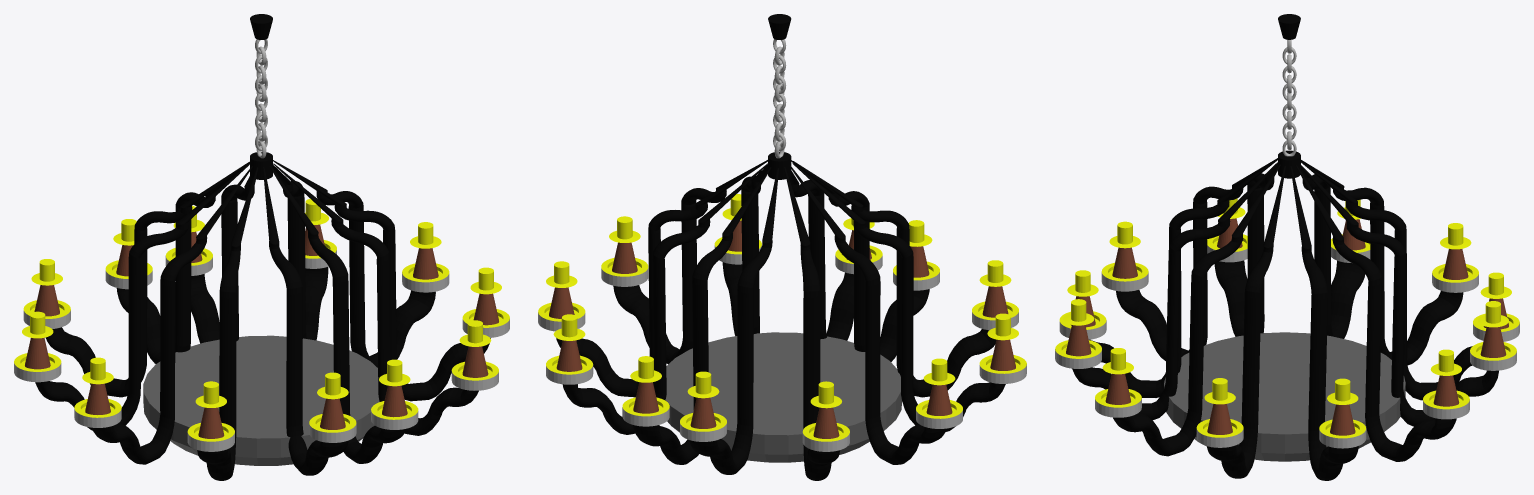
The model's file is chandelier.fbx.
3 renders of one model, left to right at view 1: azimuth 30°, elevation 25°; view 2: azimuth 150°, elevation 25°; view 3: azimuth 270°, elevation 25°, orthographic.
Parts seen in each view (by area): view 1: Cylinder, Cylinder.003, Cylinder.014, Torus, Cylinder.015; view 2: Cylinder, Cylinder.003, Cylinder.014, Torus, Cylinder.015; view 3: Cylinder, Cylinder.003, Cylinder.014, Torus, Cylinder.015.
Part boxes in pixels (x1,y1,x2,y2): Cylinder: (35, 160, 490, 480); Cylinder.003: (14, 198, 509, 451); Cylinder.014: (143, 335, 379, 465); Torus: (255, 39, 267, 158); Cylinder.015: (250, 151, 272, 179); Cylinder: (556, 160, 1005, 480); Cylinder.003: (538, 194, 1026, 451); Cylinder.014: (665, 332, 902, 462); Torus: (773, 39, 786, 158); Cylinder.015: (768, 151, 791, 179); Cylinder: (1072, 158, 1498, 480); Cylinder.003: (1055, 198, 1519, 448); Cylinder.014: (1164, 332, 1405, 461); Torus: (1282, 39, 1296, 156); Cylinder.015: (1278, 150, 1300, 178).
Bounding box in the file's own units: 318 × 302 × 304.
